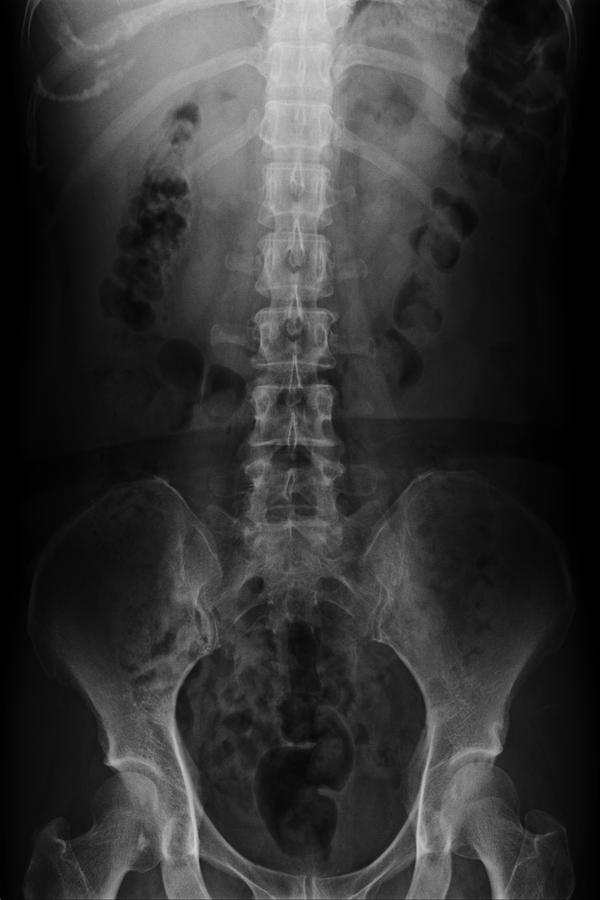lumbar scoliosis: (238, 10, 346, 555)
